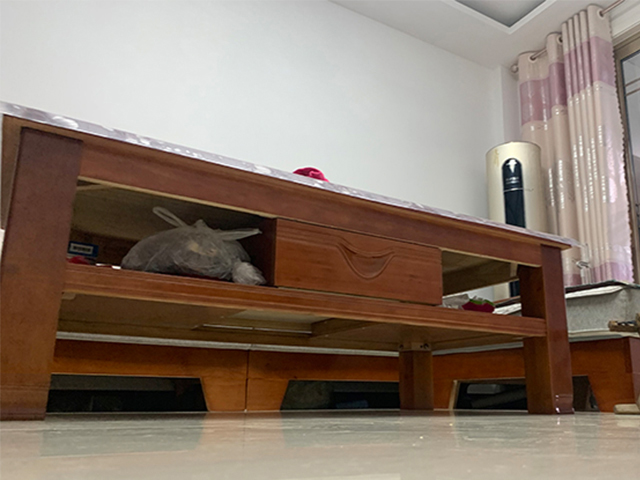curtain: (536, 6, 634, 282)
table: (1, 111, 575, 421)
